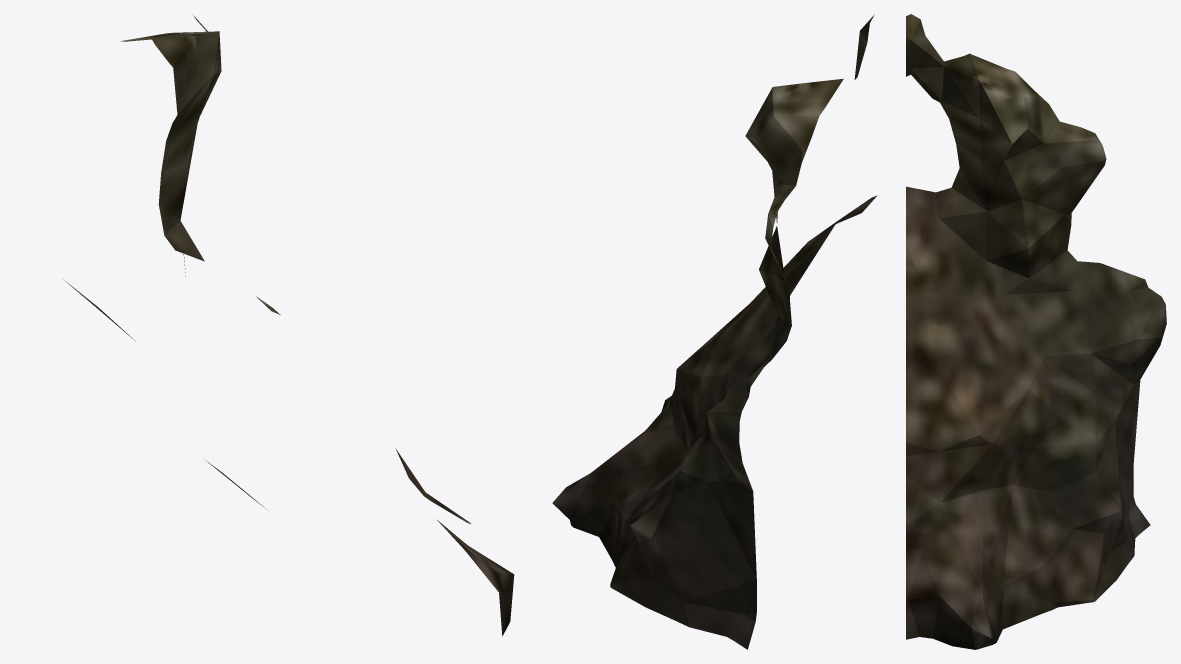
3 views of the same model, side by side, from view 1: azimuth 30°, elevation 25°; view 2: azimuth 150°, elevation 25°; view 3: azimuth 270°, elevation 25° (orthographic). The views are drawn at different scales.
Bounding box in the file's own units: 0.408 × 0.7553 × 0.3493.
Materials: 1 (1 with a texture image).
